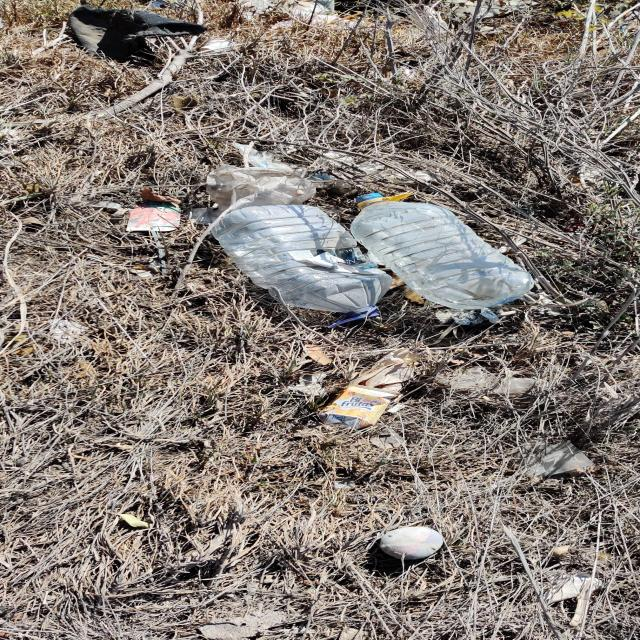litter: (348, 190, 536, 308), (205, 203, 393, 311), (231, 142, 440, 188), (67, 4, 208, 67), (186, 164, 319, 222), (320, 385, 400, 430), (512, 439, 594, 478), (352, 348, 421, 392), (436, 367, 537, 395), (379, 527, 444, 559), (125, 202, 181, 232), (287, 371, 329, 396), (74, 199, 131, 217), (199, 39, 238, 54)
